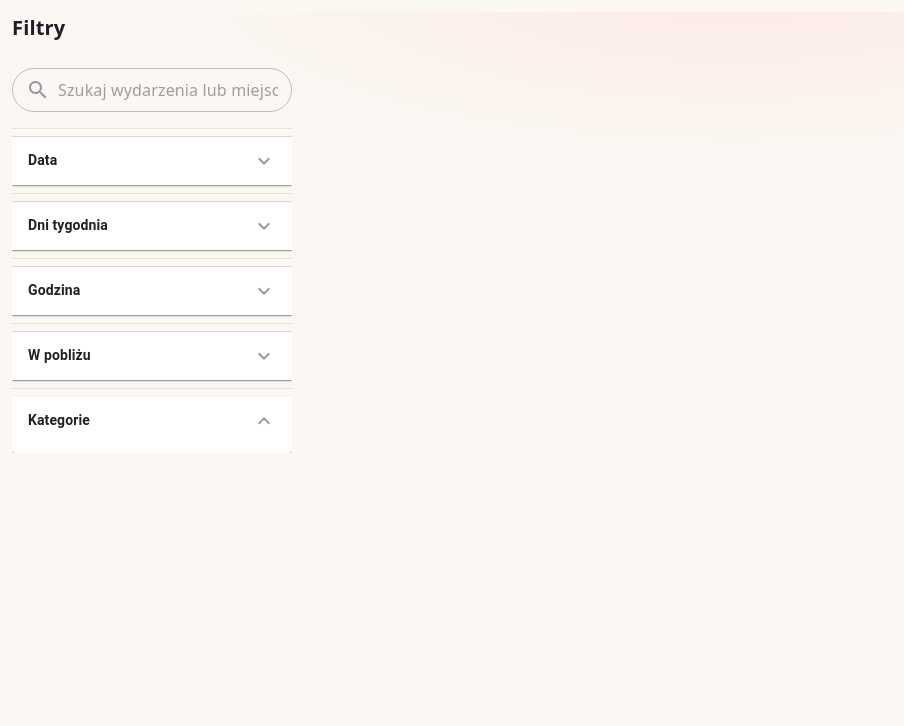
Scenario: FilterPanel › offers a nearby section with the three ways to set a point
The image size is (904, 726).
Click the button "W pobliżu" at (59, 355), box [12,332,292,380]
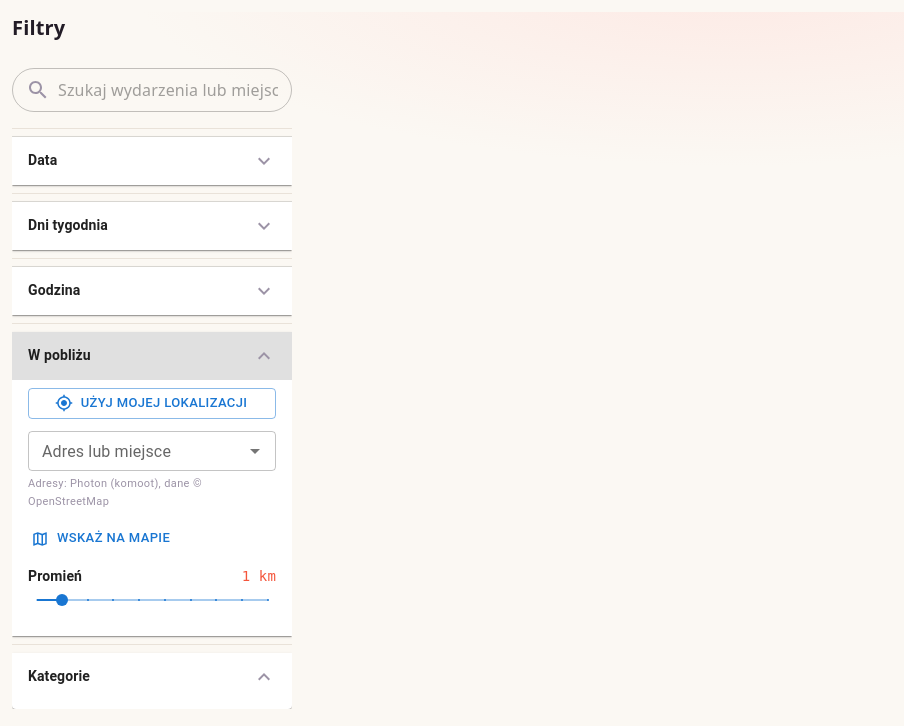
Now the button "Użyj mojej lokalizacji" is shown, box [28,388,276,419]
Now the dropdown labelled "Adres lub miejsce" is shown, box [34,437,237,465]
Now the button "Wskaż na mapie" is shown, box [28,523,175,554]
